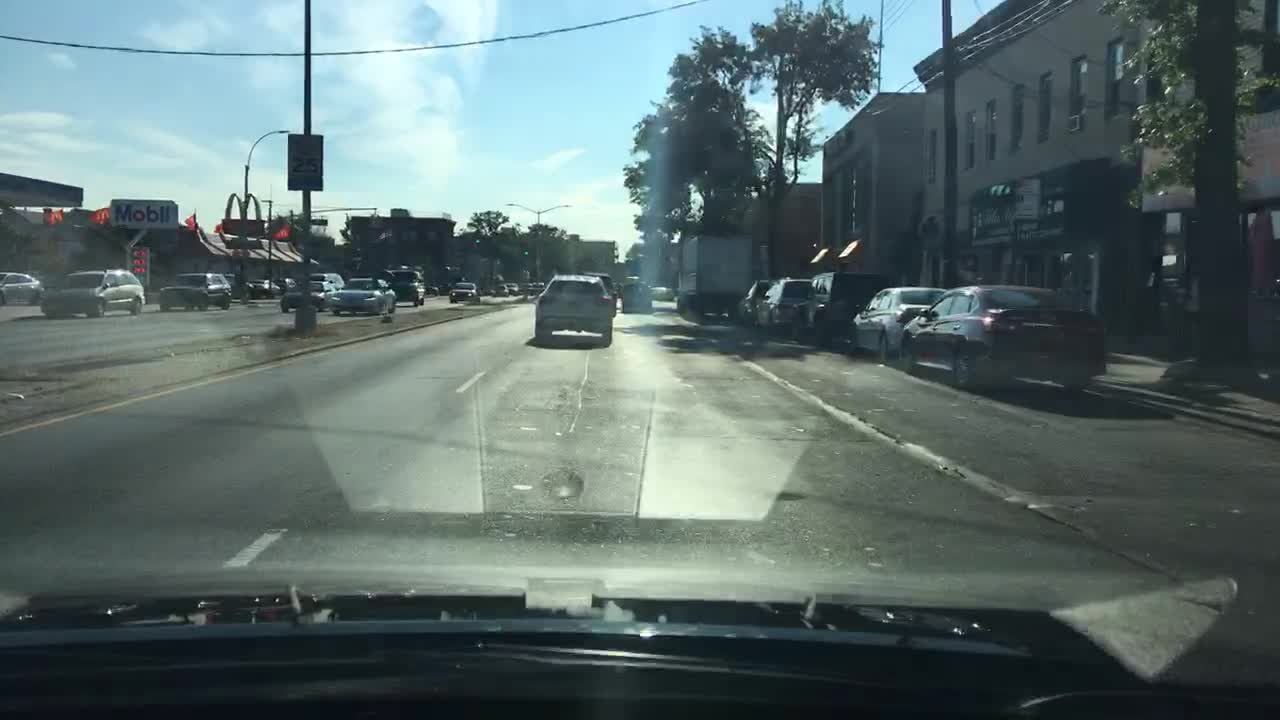car: (896, 283, 1107, 397), (844, 281, 958, 363), (790, 269, 901, 346), (532, 274, 617, 347), (41, 265, 145, 322), (752, 270, 816, 332), (157, 273, 235, 312), (331, 274, 399, 317), (278, 277, 338, 311), (382, 266, 429, 306), (0, 268, 43, 308), (735, 273, 767, 321), (620, 280, 655, 314), (446, 277, 483, 305), (308, 269, 347, 293), (249, 278, 282, 300), (222, 271, 244, 299), (651, 285, 672, 301), (490, 282, 509, 299), (424, 281, 441, 295), (625, 273, 641, 286), (535, 277, 547, 292), (507, 281, 519, 294), (521, 281, 535, 292), (439, 281, 453, 292)
traffic light: (126, 245, 151, 285), (473, 231, 482, 245), (521, 246, 529, 257)
traffic sign: (287, 129, 325, 192), (311, 219, 329, 230)
truck: (673, 228, 750, 314)
